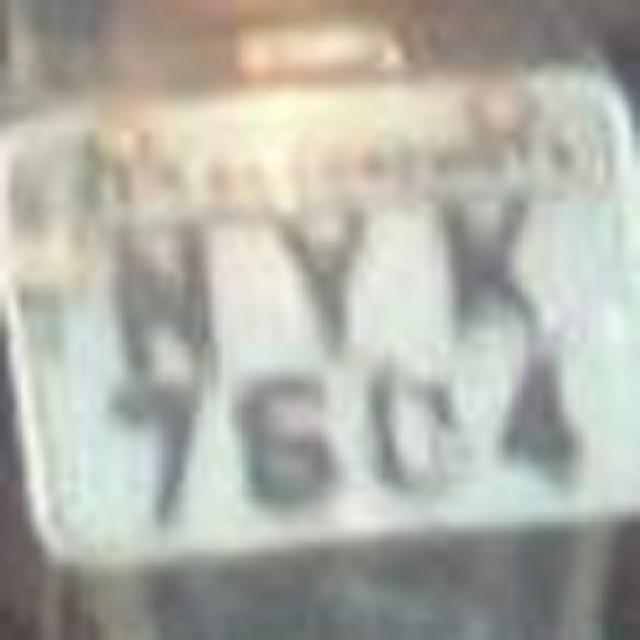0: (340, 352, 480, 512)
4: (469, 332, 596, 512)
6: (204, 348, 356, 528)
7: (96, 369, 216, 536)
B: (100, 200, 215, 395)
K: (424, 180, 556, 348)
Y: (252, 172, 392, 352)
